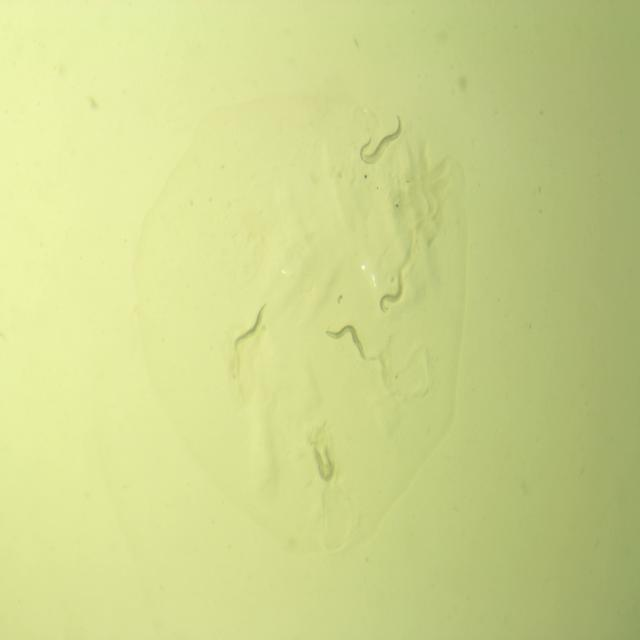worm: (316, 320, 373, 368), (230, 300, 275, 359), (356, 111, 404, 162), (374, 267, 406, 322), (310, 433, 339, 492), (355, 135, 394, 168)
